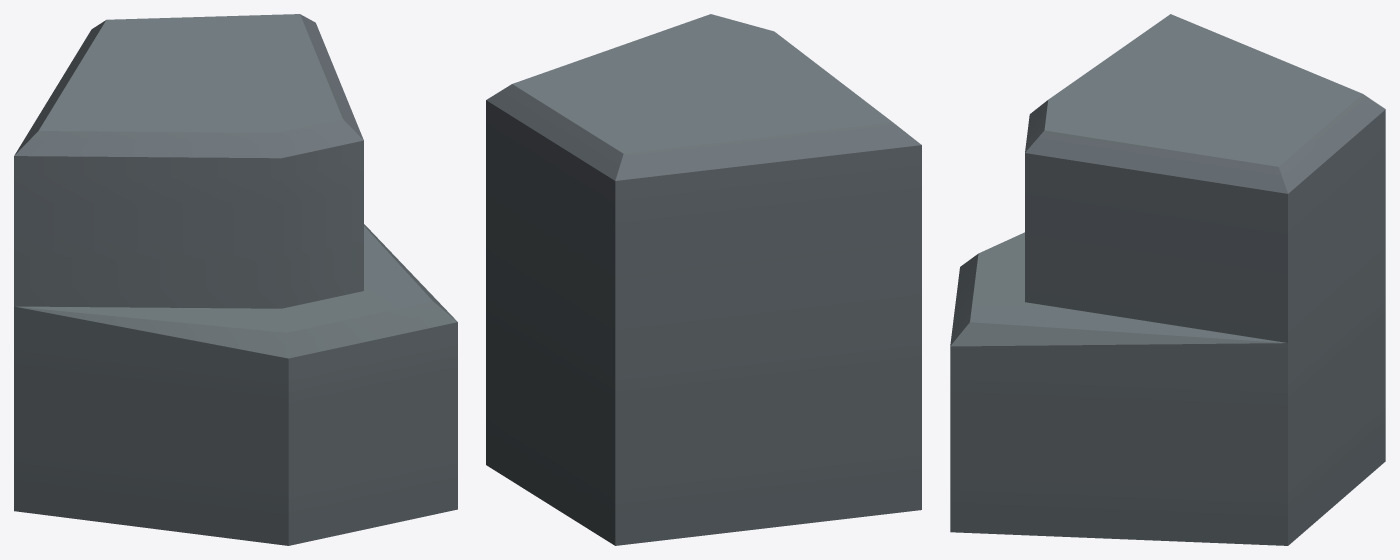
The model's file is rock_1_b_color1.d0d9ca48.glb.
3 views of the same model, side by side, from view 1: azimuth 30°, elevation 25°; view 2: azimuth 150°, elevation 25°; view 3: azimuth 270°, elevation 25° (orthographic). The views are drawn at different scales.
Parts seen in each view (by area): view 1: Rock_1_B_Color1; view 2: Rock_1_B_Color1; view 3: Rock_1_B_Color1.
Part boxes in pixels (box(x1,y1,x2,y2)): Rock_1_B_Color1: box(14, 14, 457, 545); Rock_1_B_Color1: box(486, 14, 921, 545); Rock_1_B_Color1: box(950, 14, 1385, 545).
Size of the model in its own units: 0.5511 by 0.5403 by 0.5778.
Materials: 1 (1 with a texture image).
